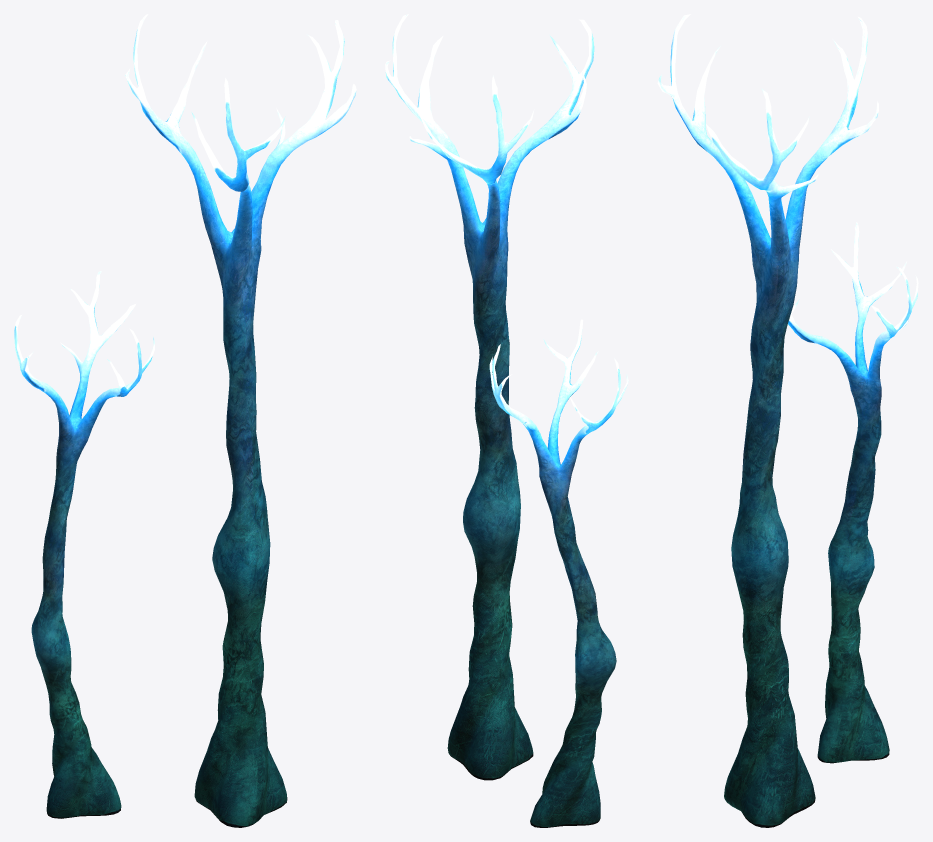
3 views of the same model, side by side, from view 1: azimuth 30°, elevation 25°; view 2: azimuth 150°, elevation 25°; view 3: azimuth 270°, elevation 25° (orthographic). The views are drawn at different scales.
Parts seen in each view (by area): view 1: SM_APV1__LOD0_Tree_A_Trunk_0_0; view 2: SM_APV1__LOD0_Tree_A_Trunk_0_0; view 3: SM_APV1__LOD0_Tree_A_Trunk_0_0.
Part boxes in pixels (x1,y1,x2,y2): SM_APV1__LOD0_Tree_A_Trunk_0_0: (14,14,356,827); SM_APV1__LOD0_Tree_A_Trunk_0_0: (385,14,628,827); SM_APV1__LOD0_Tree_A_Trunk_0_0: (657,14,918,827).
Size of the model in its own units: 235 by 608 by 187.
